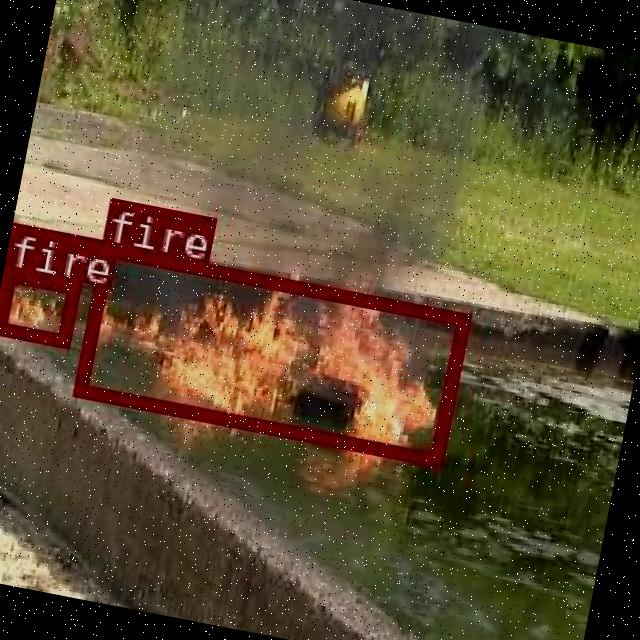fire: (72, 240, 470, 466), (0, 266, 77, 344)
